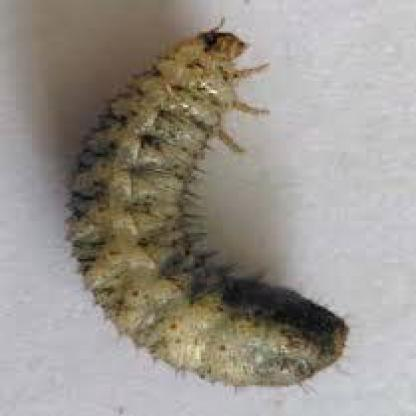root grubs: (62, 31, 349, 387)
